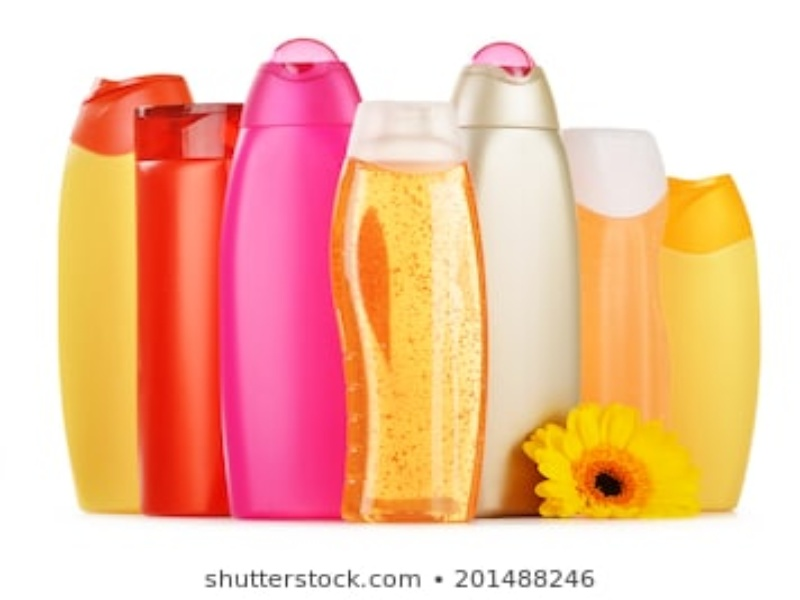shampoo-bottle: (219, 34, 366, 520), (326, 97, 486, 523), (453, 43, 586, 514), (53, 73, 187, 516), (132, 102, 253, 518), (563, 122, 669, 428), (661, 166, 754, 514)
